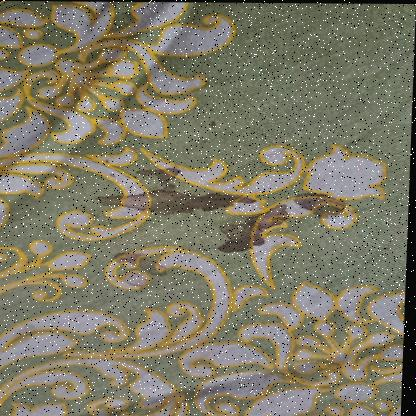spot: (83, 155, 275, 222), (207, 197, 298, 252), (265, 184, 359, 222), (92, 242, 174, 279), (186, 114, 229, 142)
